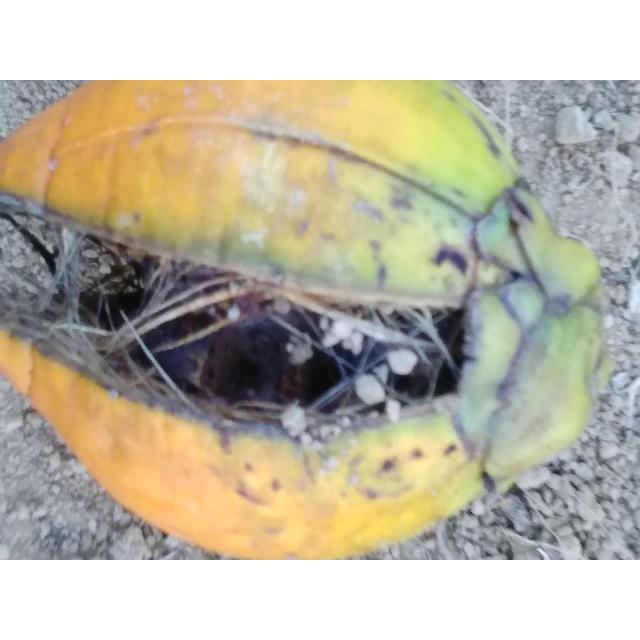damaged: (0, 80, 613, 560)
